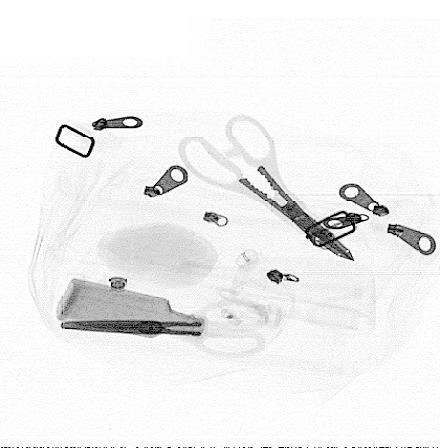Scissors: (173, 108, 362, 264), (57, 294, 273, 361)
